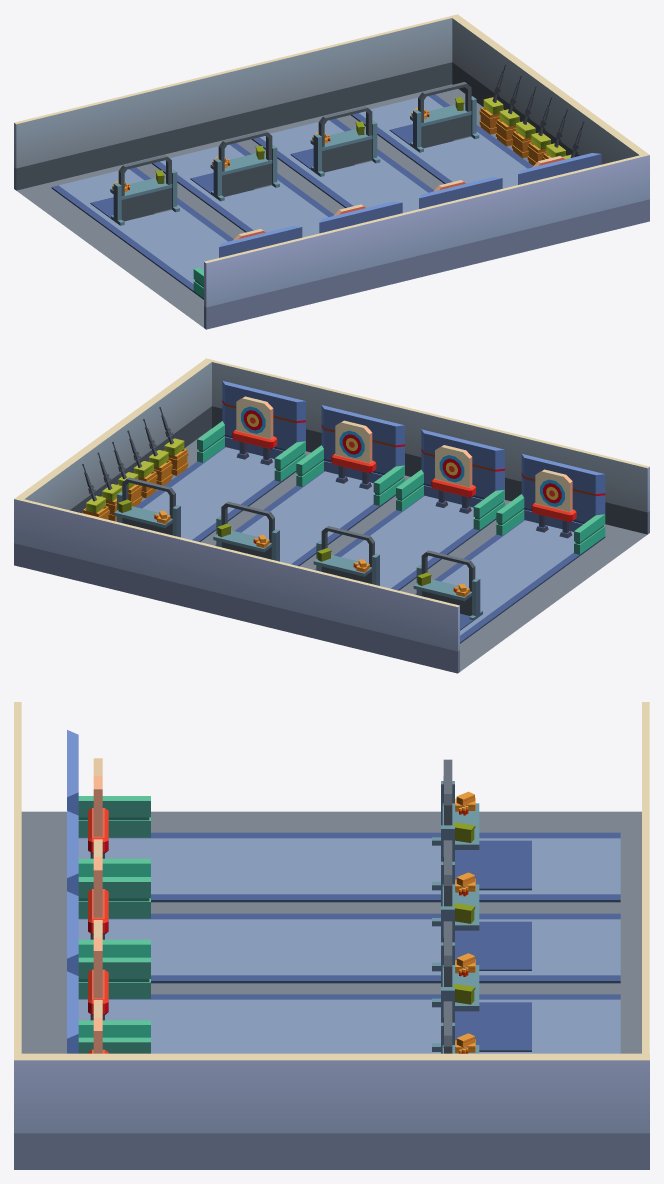
Rendered from Training_Ground_1.fbx.
3 renders of one model, top to bottom at view 1: azimuth 30°, elevation 25°; view 2: azimuth 150°, elevation 25°; view 3: azimuth 270°, elevation 25°, orthographic. The views are drawn at different scales.
Parts seen in each view (by area): view 1: Training_Ground_1_21, Training_Ground_1_24, Training_Ground_1_4, Training_Ground_1_32, Training_Ground_1_31, Training_Ground_1_16, Training_Ground_1_19, Training_Ground_1_15, Training_Ground_1_29, Training_Ground_1_1, Training_Ground_1_18, Training_Ground_1_28 (+8 smaller); view 2: Training_Ground_1_24, Training_Ground_1_21, Training_Ground_1_32, Training_Ground_1_4, Training_Ground_1_31, Training_Ground_1_16, Training_Ground_1_19, Training_Ground_1_15, Training_Ground_1_27, Training_Ground_1_30, Training_Ground_1_17, Training_Ground_1_3 (+11 smaller); view 3: Training_Ground_1_32, Training_Ground_1_4, Training_Ground_1_31, Training_Ground_1_16, Training_Ground_1_19, Training_Ground_1_18, Training_Ground_1_1, Training_Ground_1_29, Training_Ground_1_27, Training_Ground_1_3, Training_Ground_1_30, Training_Ground_1_21 (+6 smaller).
Part boxes in pixels (x1,y1,x2,y2): Training_Ground_1_21: (204,155,649,329); Training_Ground_1_24: (14,14,459,190); Training_Ground_1_4: (16,84,532,327); Training_Ground_1_32: (450,14,649,164); Training_Ground_1_31: (51,167,233,299); Training_Ground_1_16: (152,143,334,237); Training_Ground_1_19: (251,118,433,212); Training_Ground_1_15: (351,94,532,188); Training_Ground_1_29: (290,106,380,176); Training_Ground_1_1: (190,130,279,201); Training_Ground_1_18: (90,155,179,225); Training_Ground_1_28: (389,82,479,152); Training_Ground_1_24: (14,497,459,673); Training_Ground_1_21: (204,358,649,534); Training_Ground_1_32: (14,359,212,567); Training_Ground_1_4: (116,428,646,671); Training_Ground_1_31: (415,520,605,643); Training_Ground_1_16: (314,495,496,590); Training_Ground_1_19: (215,471,395,566); Training_Ground_1_15: (115,447,296,541); Training_Ground_1_27: (496,454,605,554); Training_Ground_1_30: (296,405,404,505); Training_Ground_1_17: (197,381,305,481); Training_Ground_1_3: (396,429,504,530); Training_Ground_1_32: (14,1053,649,1169); Training_Ground_1_4: (21,811,641,1053); Training_Ground_1_31: (78,832,620,902); Training_Ground_1_16: (78,913,620,983); Training_Ground_1_19: (78,994,620,1053); Training_Ground_1_18: (432,759,531,890); Training_Ground_1_1: (432,840,531,971); Training_Ground_1_29: (432,921,531,1051); Training_Ground_1_27: (67,730,150,876); Training_Ground_1_3: (67,811,150,957); Training_Ground_1_30: (67,891,150,1037); Training_Ground_1_21: (14,702,21,1169).
Size of the model in its own units: 1400 by 203 by 1051.
